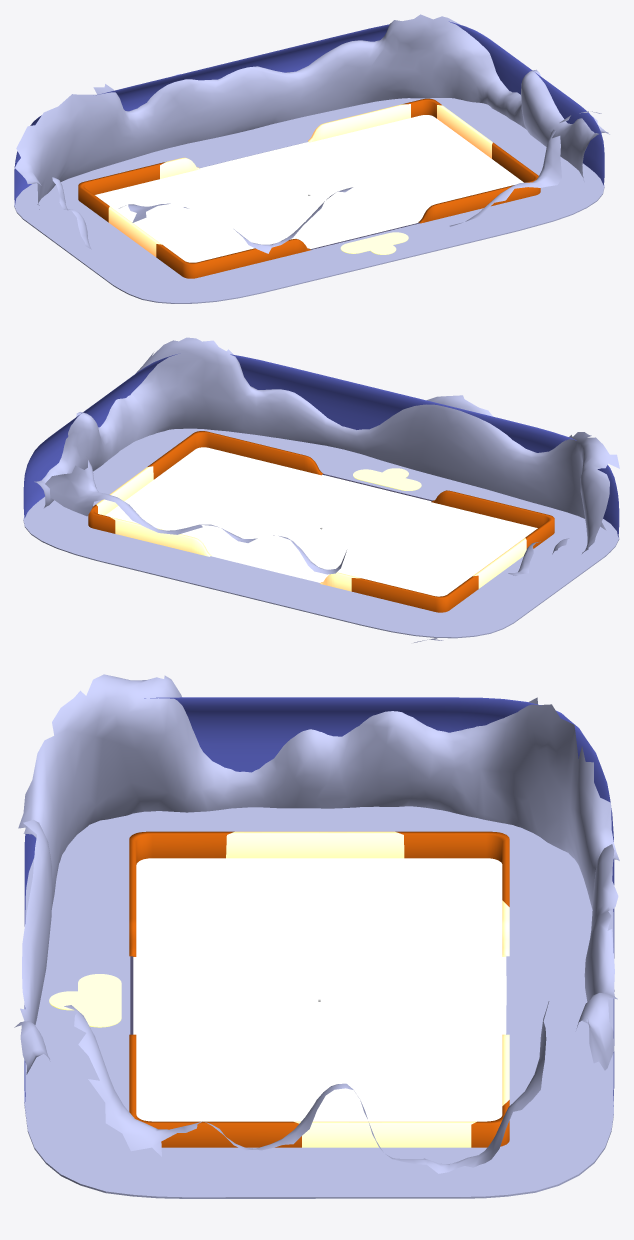
File: ice_interior.glb
3 views of the same model, one above another, from view 1: azimuth 30°, elevation 25°; view 2: azimuth 150°, elevation 25°; view 3: azimuth 270°, elevation 25° (orthographic). The views are drawn at different scales.
Visible parts, largest first — view 1: Snow, Ground_Highlight, Ground, Railing, Walls, Platform; view 2: Snow, Ground_Highlight, Ground, Railing, Walls, Platform; view 3: Ground_Highlight, Ground, Snow, Railing, Walls, Platform.
Part boxes in pixels (x1=…): Snow: x1=15, y1=14, x2=609, y2=253; Ground_Highlight: x1=95, y1=115, x2=523, y2=262; Ground: x1=14, y1=98, x2=604, y2=303; Railing: x1=78, y1=98, x2=540, y2=278; Walls: x1=14, y1=21, x2=604, y2=204; Platform: x1=340, y1=232, x2=408, y2=254; Snow: x1=34, y1=337, x2=619, y2=642; Ground_Highlight: x1=105, y1=447, x2=537, y2=596; Ground: x1=23, y1=428, x2=619, y2=638; Railing: x1=88, y1=431, x2=554, y2=612; Walls: x1=23, y1=354, x2=619, y2=537; Platform: x1=353, y1=468, x2=421, y2=490; Ground_Highlight: x1=133, y1=858, x2=506, y2=1121; Ground: x1=24, y1=806, x2=613, y2=1198; Snow: x1=14, y1=674, x2=619, y2=1173; Railing: x1=129, y1=831, x2=509, y2=1147; Walls: x1=24, y1=697, x2=614, y2=1106; Platform: x1=49, y1=974, x2=121, y2=1027.
Size of what is drawn, in the model's own units: 1121 by 239 by 700.
